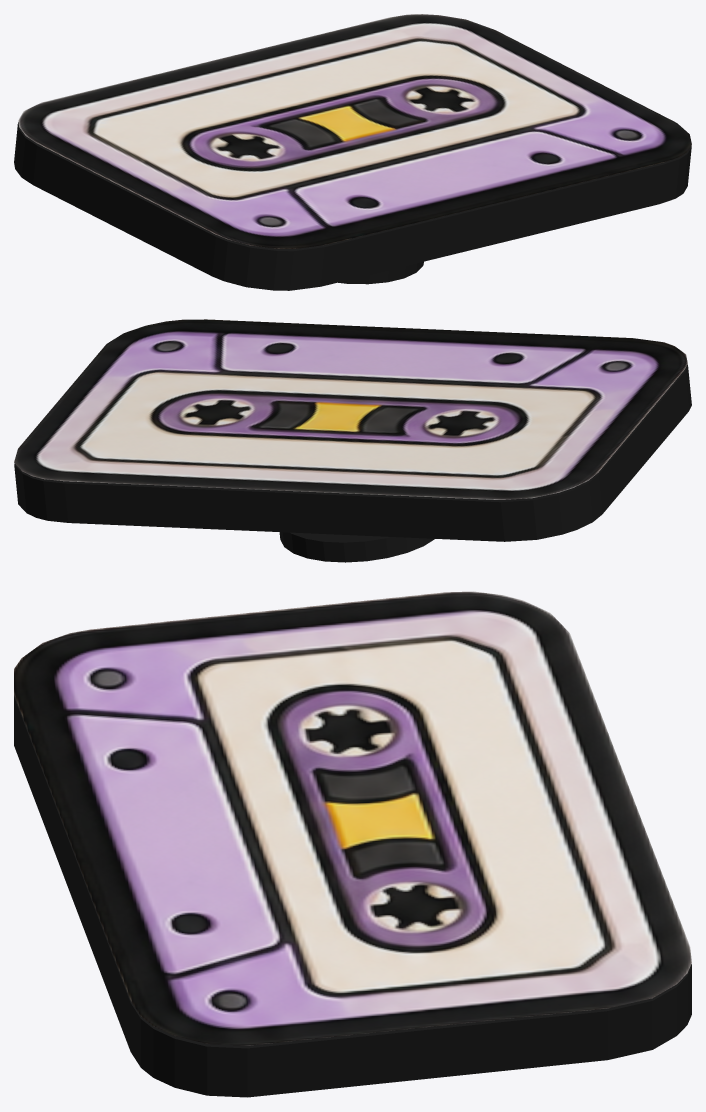
The model's file is music-cassette-tape.glb.
The picture shows the model from 3 angles, top to bottom: view 1: azimuth 30°, elevation 25°; view 2: azimuth 150°, elevation 25°; view 3: azimuth 270°, elevation 25°; orthographic projection. The views are drawn at different scales.
Parts seen in each view (by area): view 1: MUSIC_Cassette_Tape_MODEL; view 2: MUSIC_Cassette_Tape_MODEL; view 3: MUSIC_Cassette_Tape_MODEL.
Part boxes in pixels (left/top/right/bottom): MUSIC_Cassette_Tape_MODEL: left=14, top=14, right=691, bottom=290; MUSIC_Cassette_Tape_MODEL: left=14, top=319, right=691, bottom=562; MUSIC_Cassette_Tape_MODEL: left=14, top=591, right=691, bottom=1097.
Size of the model in its own units: 0.3921 by 0.1035 by 0.3018.
Materials: 3 (1 with a texture image).
